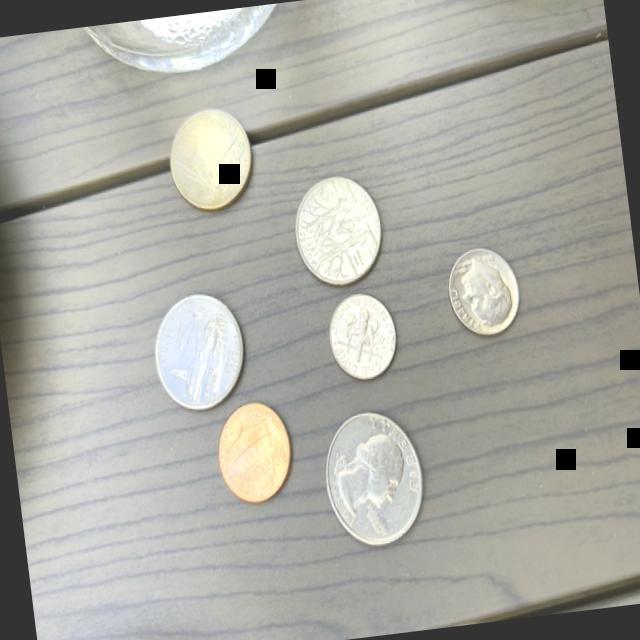Dime: (444, 242, 525, 340), (325, 290, 402, 386)
Penny: (212, 398, 300, 510)
Quarter: (316, 404, 432, 553), (148, 287, 252, 416), (288, 169, 389, 291), (163, 102, 259, 214)
